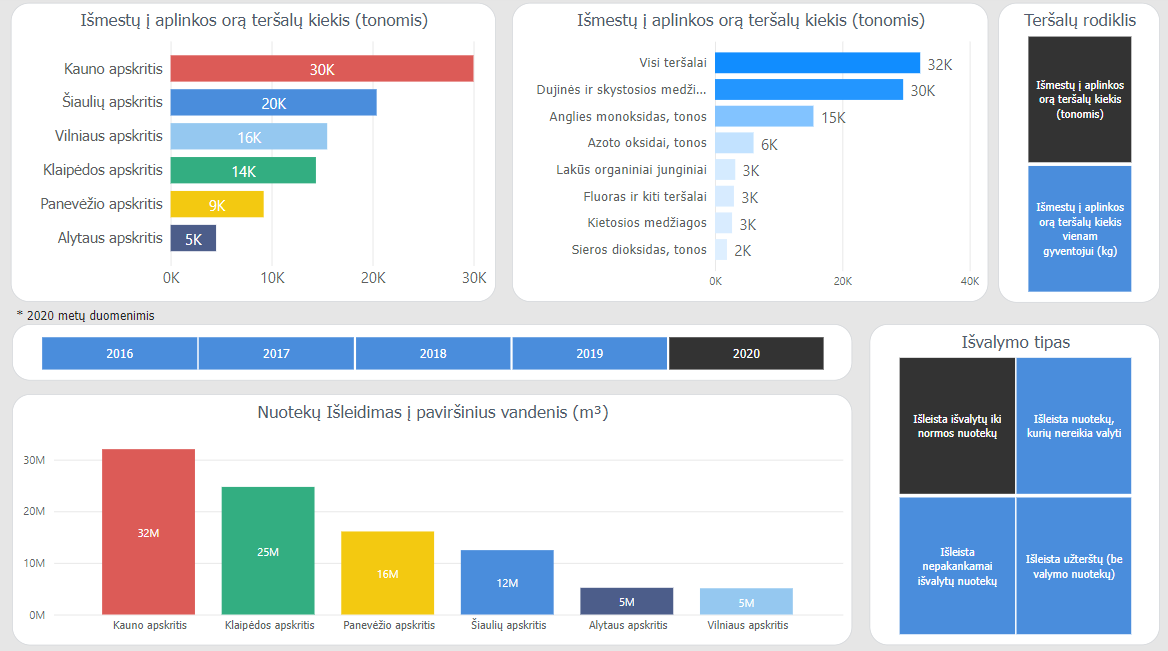

The page's visual inventory and layout, read from the dashboard file:
{"tool":"powerbi","page":{"name":"Tarša","canvas":[1280,720],"ordinal":5},"visuals":[{"type":"barChart","fields":{"Category":["Administracinė Teritorija.Administracinė Teritorija"],"Series":["Administracinė Teritorija.Administracinė Teritorija"],"Y":["Teršalų Rodiklių Pasirinkimas.Teršalų rodiklis"]},"box":[15.5,9.6,527.8,326],"z":0},{"type":"columnChart","title":"Nuotekų Išleidimas į paviršinius vandenis (m³)","fields":{"Category":["Administracinė Teritorija.Administracinė Teritorija"],"Y":["Nuotekos į paviršinius vandenis.Nuotekų Išleidimas į Paviršinius Vandenis (m3)"],"Series":["Administracinė Teritorija.Administracinė Teritorija"]},"box":[15.8,435.7,914.5,273.8],"z":1000},{"type":"slicer","fields":{"Values":["Datos.Metai"]},"box":[15.8,359.8,914.5,61.6],"z":2000},{"type":"textbox","box":[15.8,335.4,637.8,35.8],"z":3000},{"type":"slicer","title":"Išvalymo tipas","fields":{"Values":["Nuotekos į paviršinius vandenis.Išvalymas"]},"box":[949.9,359.3,316.2,349.6],"z":4000},{"type":"barChart","fields":{"Category":["Teršalai.Teršalai"],"Y":["Teršalų Rodiklių Pasirinkimas.Teršalų rodiklis"]},"box":[560,9.6,518.2,326],"z":5000},{"type":"slicer","title":"Teršalų rodiklis","fields":{"Values":["Teršalų Rodiklių Pasirinkimas.Rodiklio pavadinimas"]},"box":[1090,10,176,326],"z":5001}]}

Visuals, with their boxes in screenshot pixels (x1, y1, x2, y2), scaled from the page's 1280x720 canvas onto the 1168x651 screenshot:
barChart - Administracinė Teritorija.Administracinė Teritorija x Administracinė Teritorija.Administracinė Teritorija: 14/9/496/303
"Nuotekų Išleidimas į paviršinius vandenis (m³)" columnChart: 14/394/849/642
slicer - Datos.Metai: 14/325/849/381
textbox: 14/303/596/336
"Išvalymo tipas" slicer: 867/325/1155/641
barChart - Teršalai.Teršalai x Teršalų Rodiklių Pasirinkimas.Teršalų rodiklis: 511/9/984/303
"Teršalų rodiklis" slicer: 995/9/1155/304
